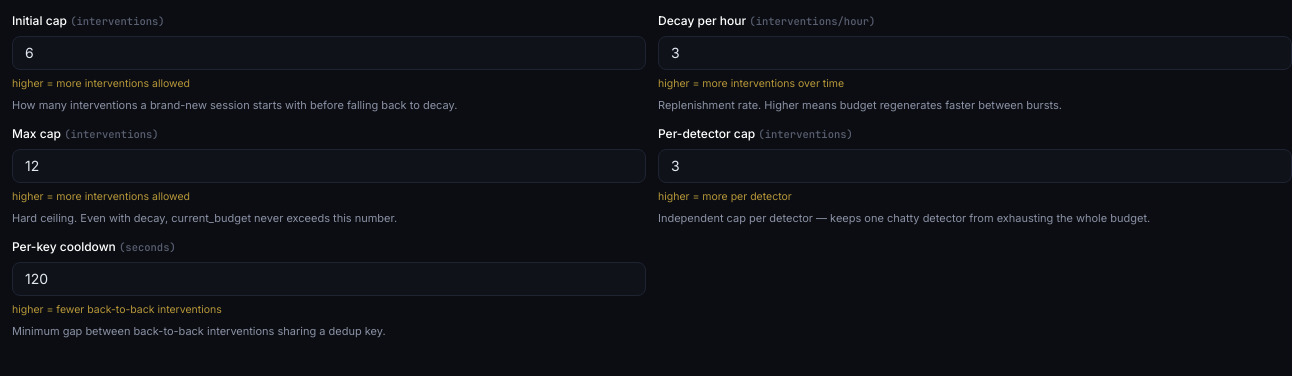
Test: NurseBudgetEditor validation › rejects negative cooldown
This screenshot has width=1292, height=376.
Replace the text in the number field named "Per-key cooldown" with "-5" at (329, 279), box [25, 269, 633, 289]
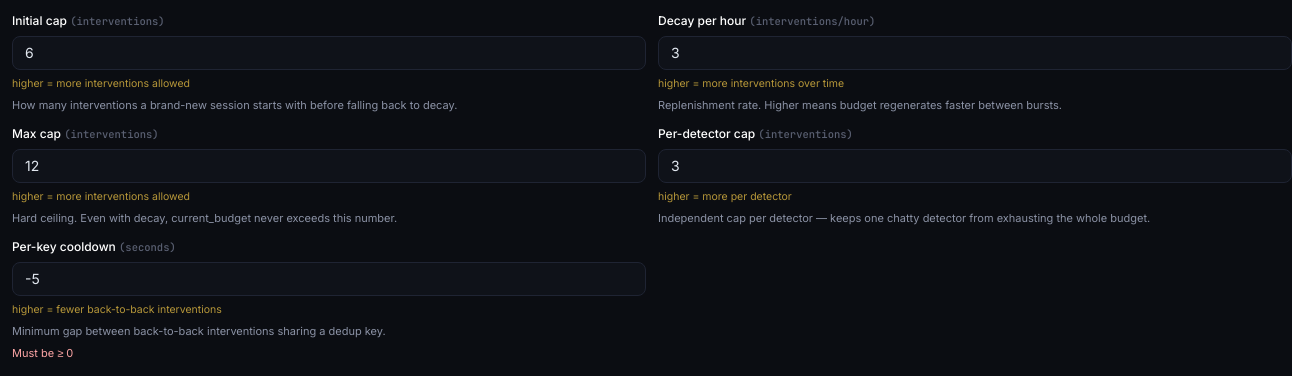
Expected: the message "Must be ≥ 0" is shown, [12, 346, 73, 360]
